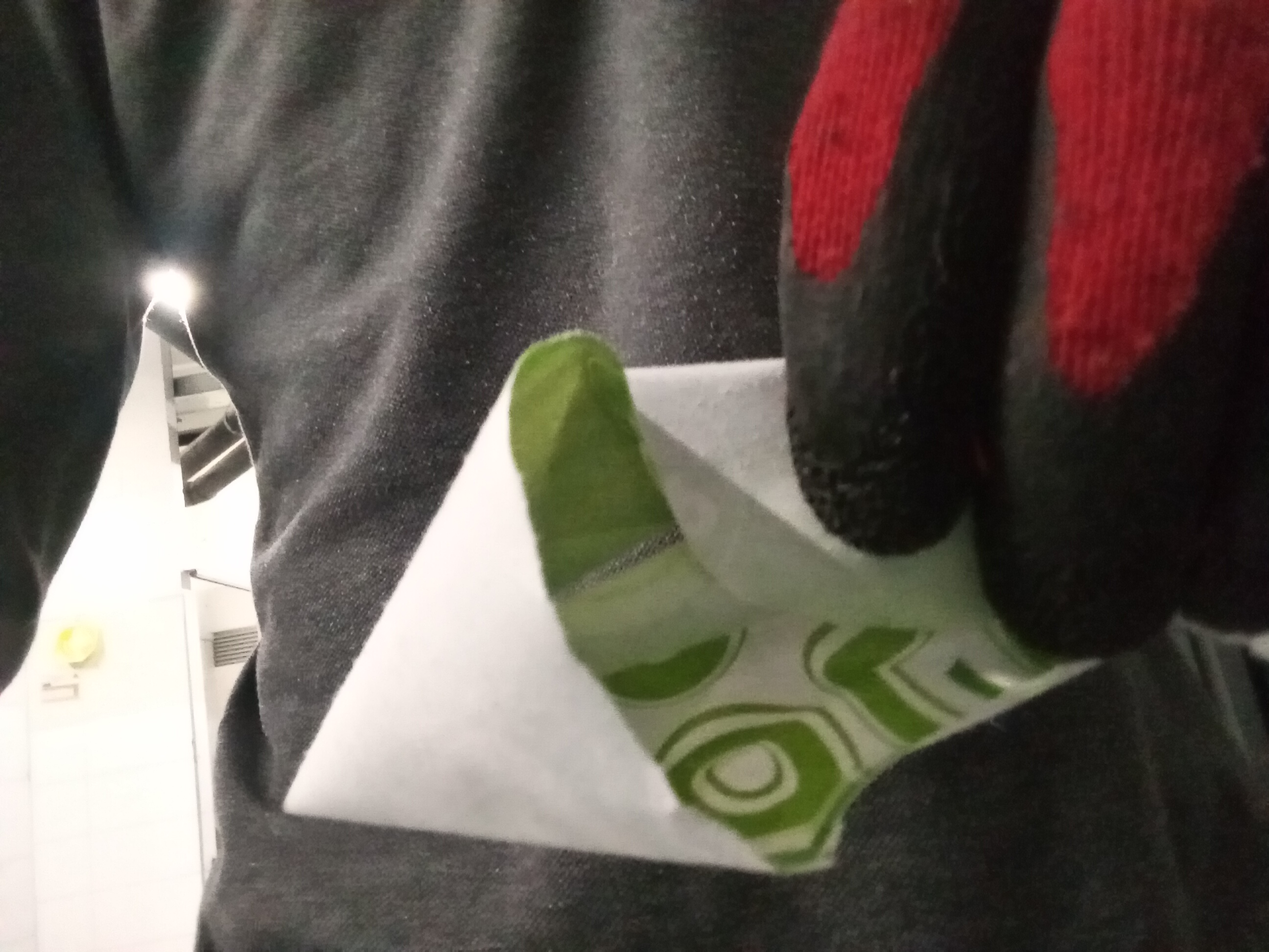Ordinario: (280, 329, 1100, 880)
